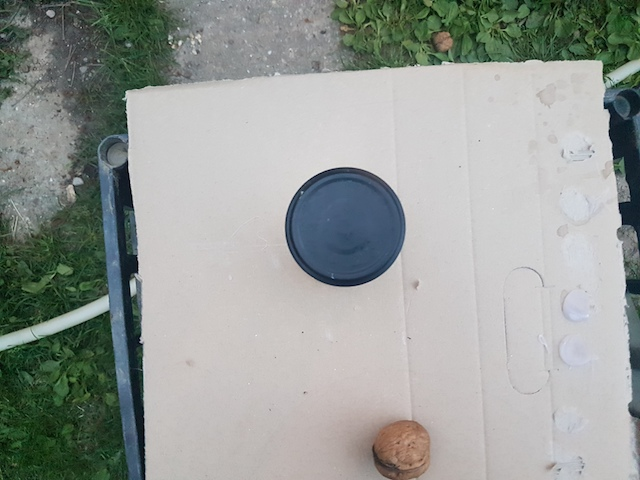nut: (371, 418, 435, 479)
recipient: (284, 163, 407, 289)
